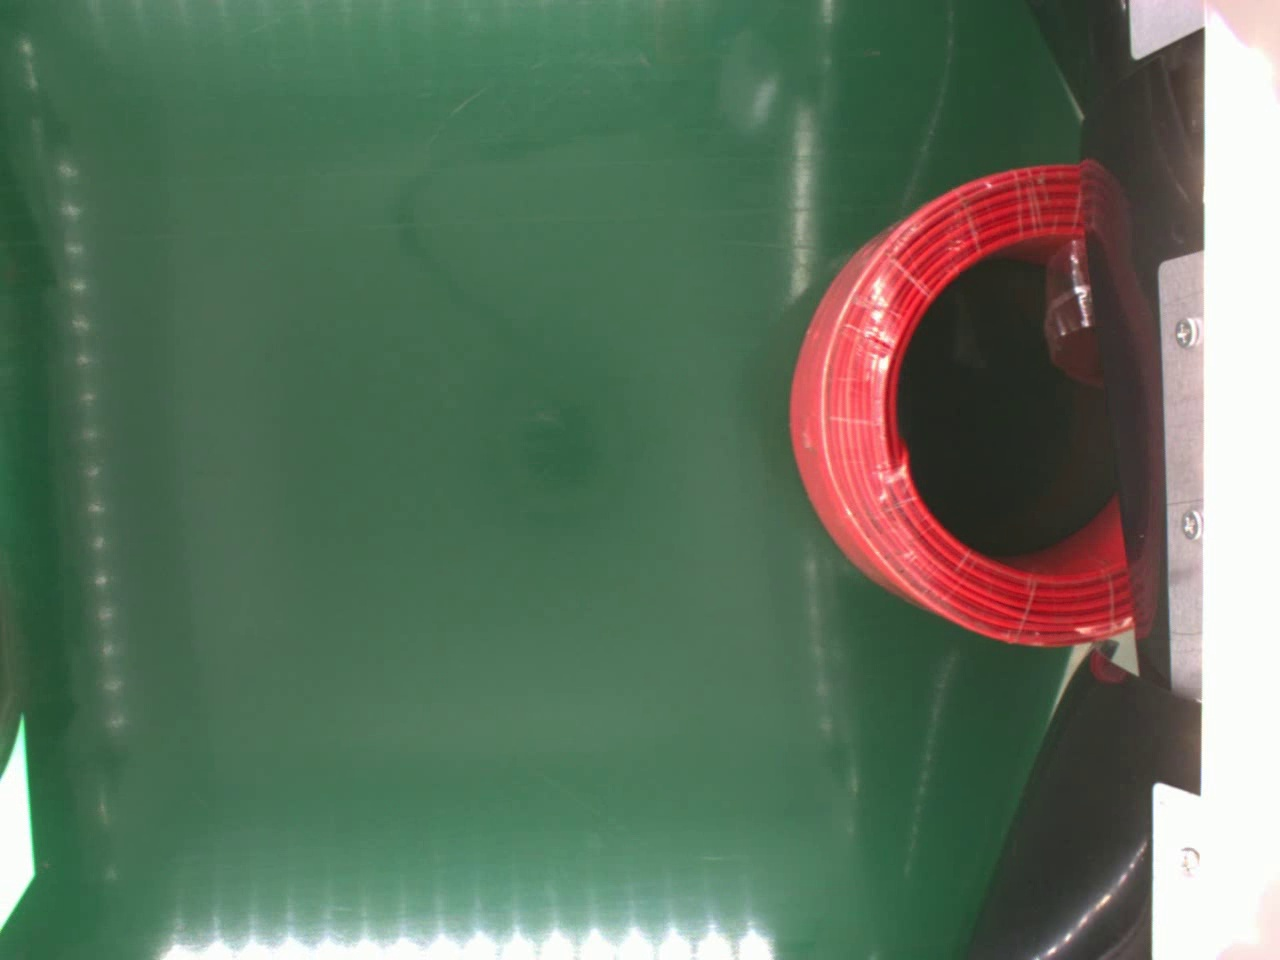red: (783, 159, 1141, 645)
